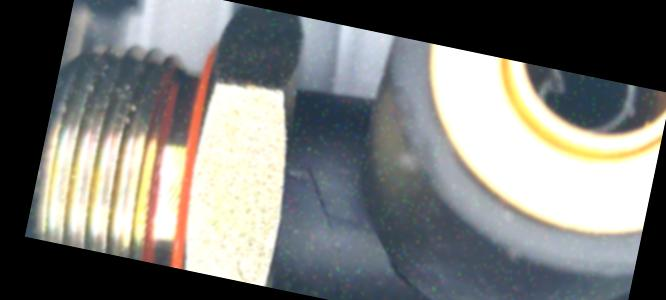craze: (292, 168, 349, 237)
off-centered: (516, 63, 647, 147)
white mark: (278, 166, 304, 187)
